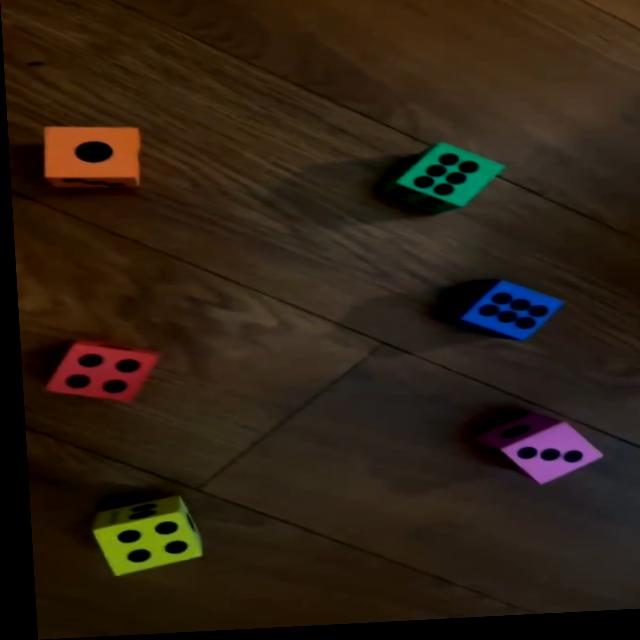blue_block: (431, 280, 560, 350)
red_block: (40, 339, 158, 407)
